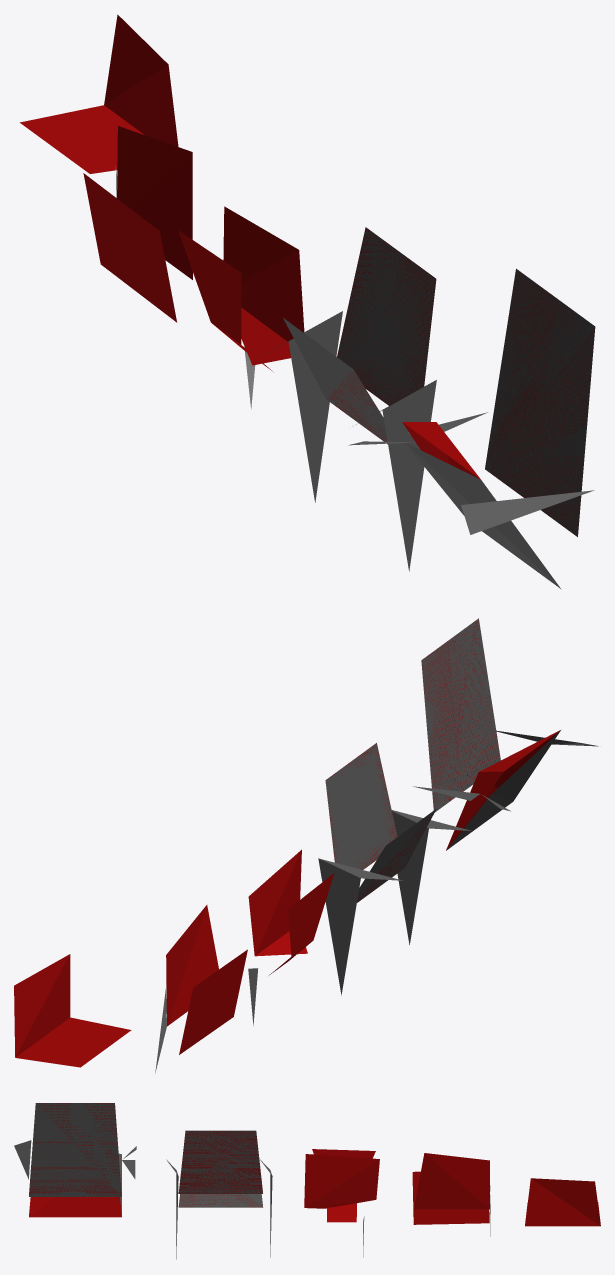
The model's file is arena-seats.lod2.glb.
The picture shows the model from 3 angles, top to bottom: view 1: azimuth 30°, elevation 25°; view 2: azimuth 150°, elevation 25°; view 3: azimuth 270°, elevation 25°; orthographic projection. The views are drawn at different scales.
Visible parts, largest first — view 1: Material2; view 2: Material2; view 3: Material2.
Part boxes in pixels (x1=…): Material2: x1=20, y1=14, x2=595, y2=589; Material2: x1=14, y1=618, x2=598, y2=1072; Material2: x1=14, y1=1103, x2=600, y2=1259.
Size of the model in its own units: 1.28 by 1.81 by 5.68.
